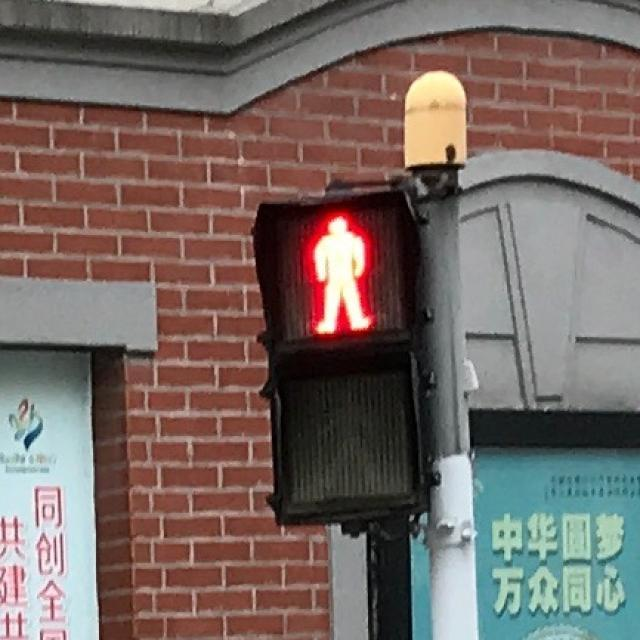red_light: (278, 192, 398, 343)
